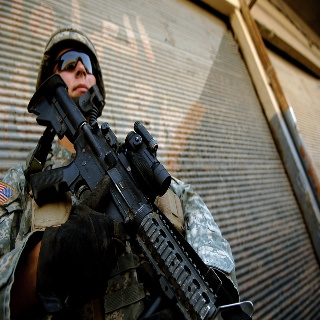rifle: (26, 74, 258, 320)
